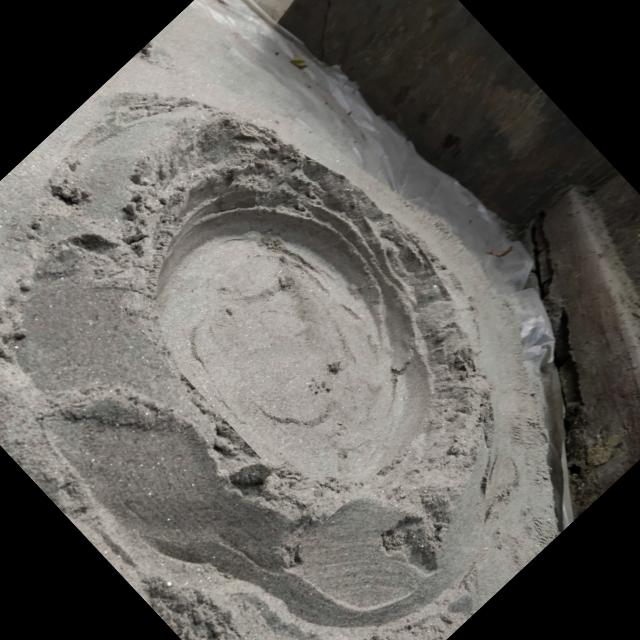C40: (159, 204, 429, 481)
